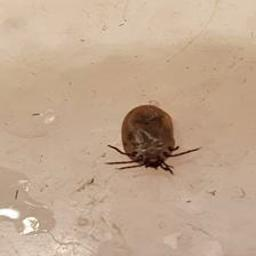Ixodes scapularis: (106, 107, 202, 174)
